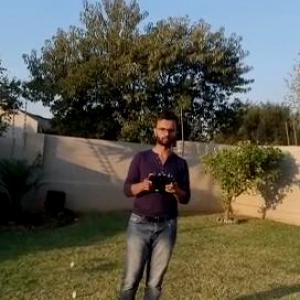follow: (111, 105, 196, 299)
